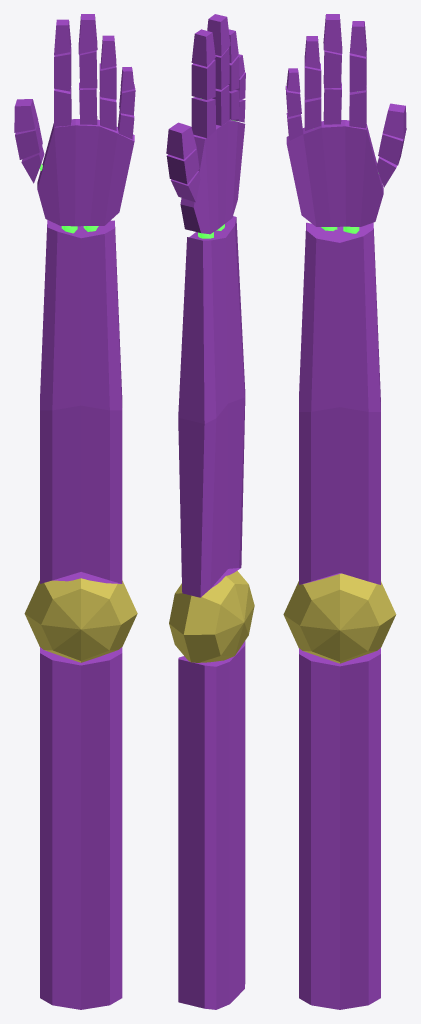
The model's file is hand.fbx.
3 views of the same model, side by side, from view 1: azimuth 90°, elevation 25°; view 2: azimuth 150°, elevation 25°; view 3: azimuth 270°, elevation 25° (orthographic).
Visible parts, largest first — view 1: rear, fore, palm, joint, thumb2, thumb2.001, middle 2, index1.001, middle 1, middle 1.001, index1, ring1.001 (+6 smaller); view 2: rear, fore, joint, palm, index1, index1.001, thumb2, thumb2.001, index2, middle 2, middle 1, middle 1.001 (+4 smaller); view 3: rear, fore, palm, joint, thumb2, middle 1, middle 2, middle 1.001, index1.001, index1, thumb2.001, ring1.001 (+6 smaller).
Part boxes in pixels (box(x1,y1,x2,y2)): rear: box(40, 647, 122, 1009); fore: box(40, 220, 122, 583); palm: box(37, 119, 134, 226); joint: box(24, 578, 137, 662); thumb2: box(14, 99, 38, 132); thumb2.001: box(15, 121, 42, 159); middle 2: box(78, 14, 97, 53); index1.001: box(54, 47, 71, 91); middle 1: box(79, 82, 97, 124); middle 1.001: box(79, 50, 97, 88); index1: box(54, 87, 71, 126); ring1.001: box(99, 63, 116, 99); rear: box(178, 641, 245, 1009); fore: box(178, 216, 245, 597); joint: box(169, 570, 254, 662); palm: box(180, 120, 245, 234); index1: box(191, 97, 215, 137); index1.001: box(191, 59, 215, 99); thumb2: box(166, 122, 196, 159); thumb2.001: box(166, 148, 199, 184); index2: box(191, 29, 215, 66); middle 2: box(207, 14, 230, 56); middle 1: box(212, 85, 229, 125); middle 1.001: box(214, 48, 229, 89); rear: box(299, 648, 380, 1009); fore: box(299, 222, 380, 584); palm: box(286, 120, 383, 226); joint: box(283, 573, 396, 663); thumb2: box(382, 103, 406, 139); middle 1: box(323, 82, 341, 124); middle 2: box(323, 14, 342, 53); middle 1.001: box(323, 50, 341, 88); index1.001: box(349, 53, 366, 92); index1: box(349, 85, 366, 128); thumb2.001: box(378, 132, 405, 165); ring1.001: box(304, 63, 321, 99).
Bounding box in the file's own units: 18.35 × 264 × 30.
